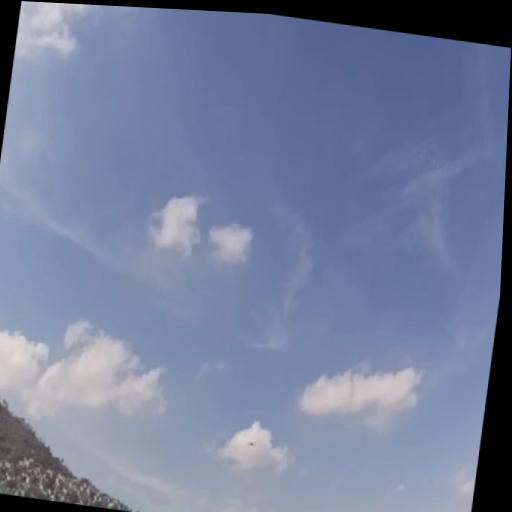drones: (241, 434, 261, 455)
